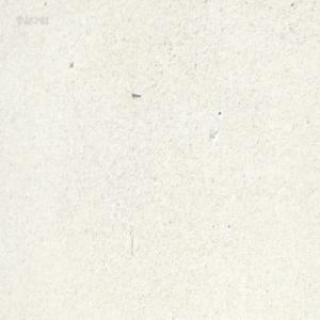Nailtrack_idkeyframe: (130, 90, 140, 96)
